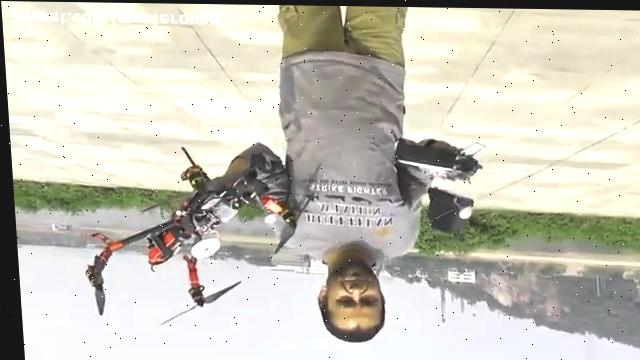drone: (71, 145, 309, 327)
